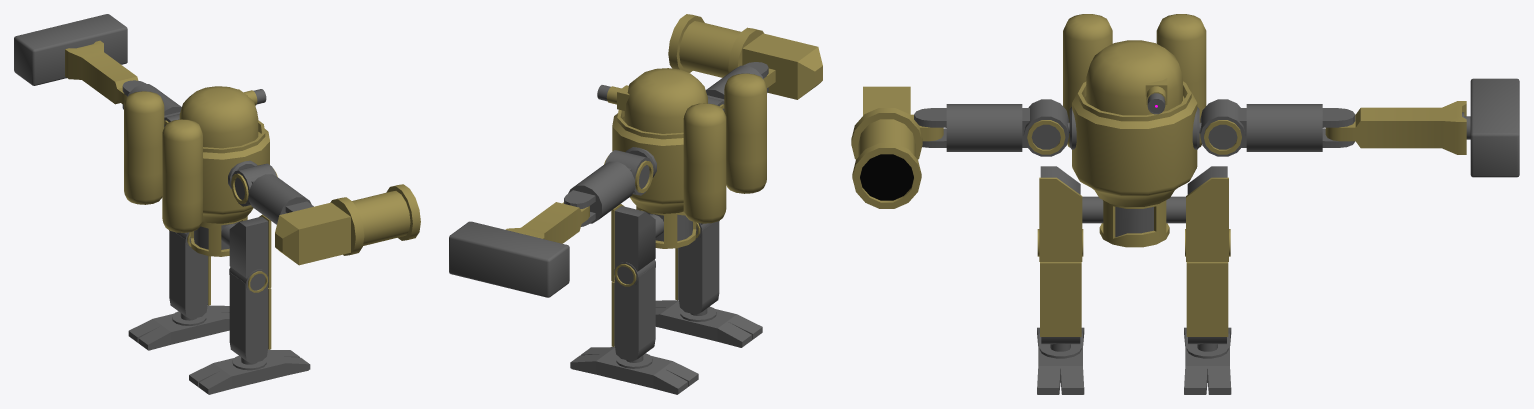
The model's file is Heavy Rig.fbx.
3 renders of one model, left to right at view 1: azimuth 30°, elevation 25°; view 2: azimuth 150°, elevation 25°; view 3: azimuth 270°, elevation 25°, orthographic. The views are drawn at different scales.
Parts seen in each view (by area): view 1: Tanks, CannonArm, Hammer, Torso, Head, RLLeg, LLLEG, RFoot, RUArm, LFoot, HammerArm, RULeg (+1 smaller); view 2: Tanks, CannonArm, Hammer, Torso, Head, LLLEG, LUArm, RLLeg, LFoot, RFoot, LULeg, HammerArm (+2 smaller); view 3: Torso, CannonArm, LUArm, RUArm, Tanks, Head, HammerArm, Hammer, RULeg, LULeg, LLLEG, RLLeg (+5 smaller).
Part boxes in pixels (x1=…): Tanks: x1=124, y1=91, x2=202, y2=232; CannonArm: x1=275, y1=184, x2=420, y2=265; Hammer: x1=14, y1=14, x2=127, y2=85; Torso: x1=190, y1=120, x2=269, y2=256; Head: x1=179, y1=86, x2=260, y2=148; RLLeg: x1=229, y1=267, x2=271, y2=363; LLLEG: x1=169, y1=230, x2=210, y2=319; RFoot: x1=189, y1=349, x2=310, y2=394; RUArm: x1=231, y1=163, x2=313, y2=224; LFoot: x1=128, y1=305, x2=229, y2=350; HammerArm: x1=65, y1=40, x2=138, y2=104; RULeg: x1=229, y1=214, x2=271, y2=288; Tanks: x1=683, y1=73, x2=766, y2=223; CannonArm: x1=668, y1=14, x2=822, y2=99; Hammer: x1=449, y1=221, x2=569, y2=297; Torso: x1=612, y1=109, x2=696, y2=248; Head: x1=622, y1=68, x2=707, y2=133; LLLEG: x1=611, y1=259, x2=655, y2=361; LUArm: x1=564, y1=150, x2=653, y2=226; RLLeg: x1=675, y1=220, x2=719, y2=314; LFoot: x1=570, y1=347, x2=698, y2=394; RFoot: x1=655, y1=300, x2=762, y2=347; LULeg: x1=611, y1=204, x2=655, y2=281; HammerArm: x1=505, y1=202, x2=589, y2=243; Torso: x1=1072, y1=81, x2=1197, y2=247; CannonArm: x1=851, y1=86, x2=943, y2=208; LUArm: x1=1200, y1=99, x2=1355, y2=156; RUArm: x1=914, y1=99, x2=1068, y2=156; Tanks: x1=1063, y1=14, x2=1206, y2=147; Head: x1=1084, y1=40, x2=1184, y2=115; HammerArm: x1=1325, y1=101, x2=1466, y2=154; Hammer: x1=1462, y1=78, x2=1519, y2=177; RULeg: x1=1039, y1=166, x2=1082, y2=261; LULeg: x1=1186, y1=166, x2=1228, y2=261; LLLEG: x1=1185, y1=229, x2=1230, y2=344; RLLeg: x1=1037, y1=229, x2=1083, y2=344.
Size of the model in its own units: 159 by 248 by 477.
